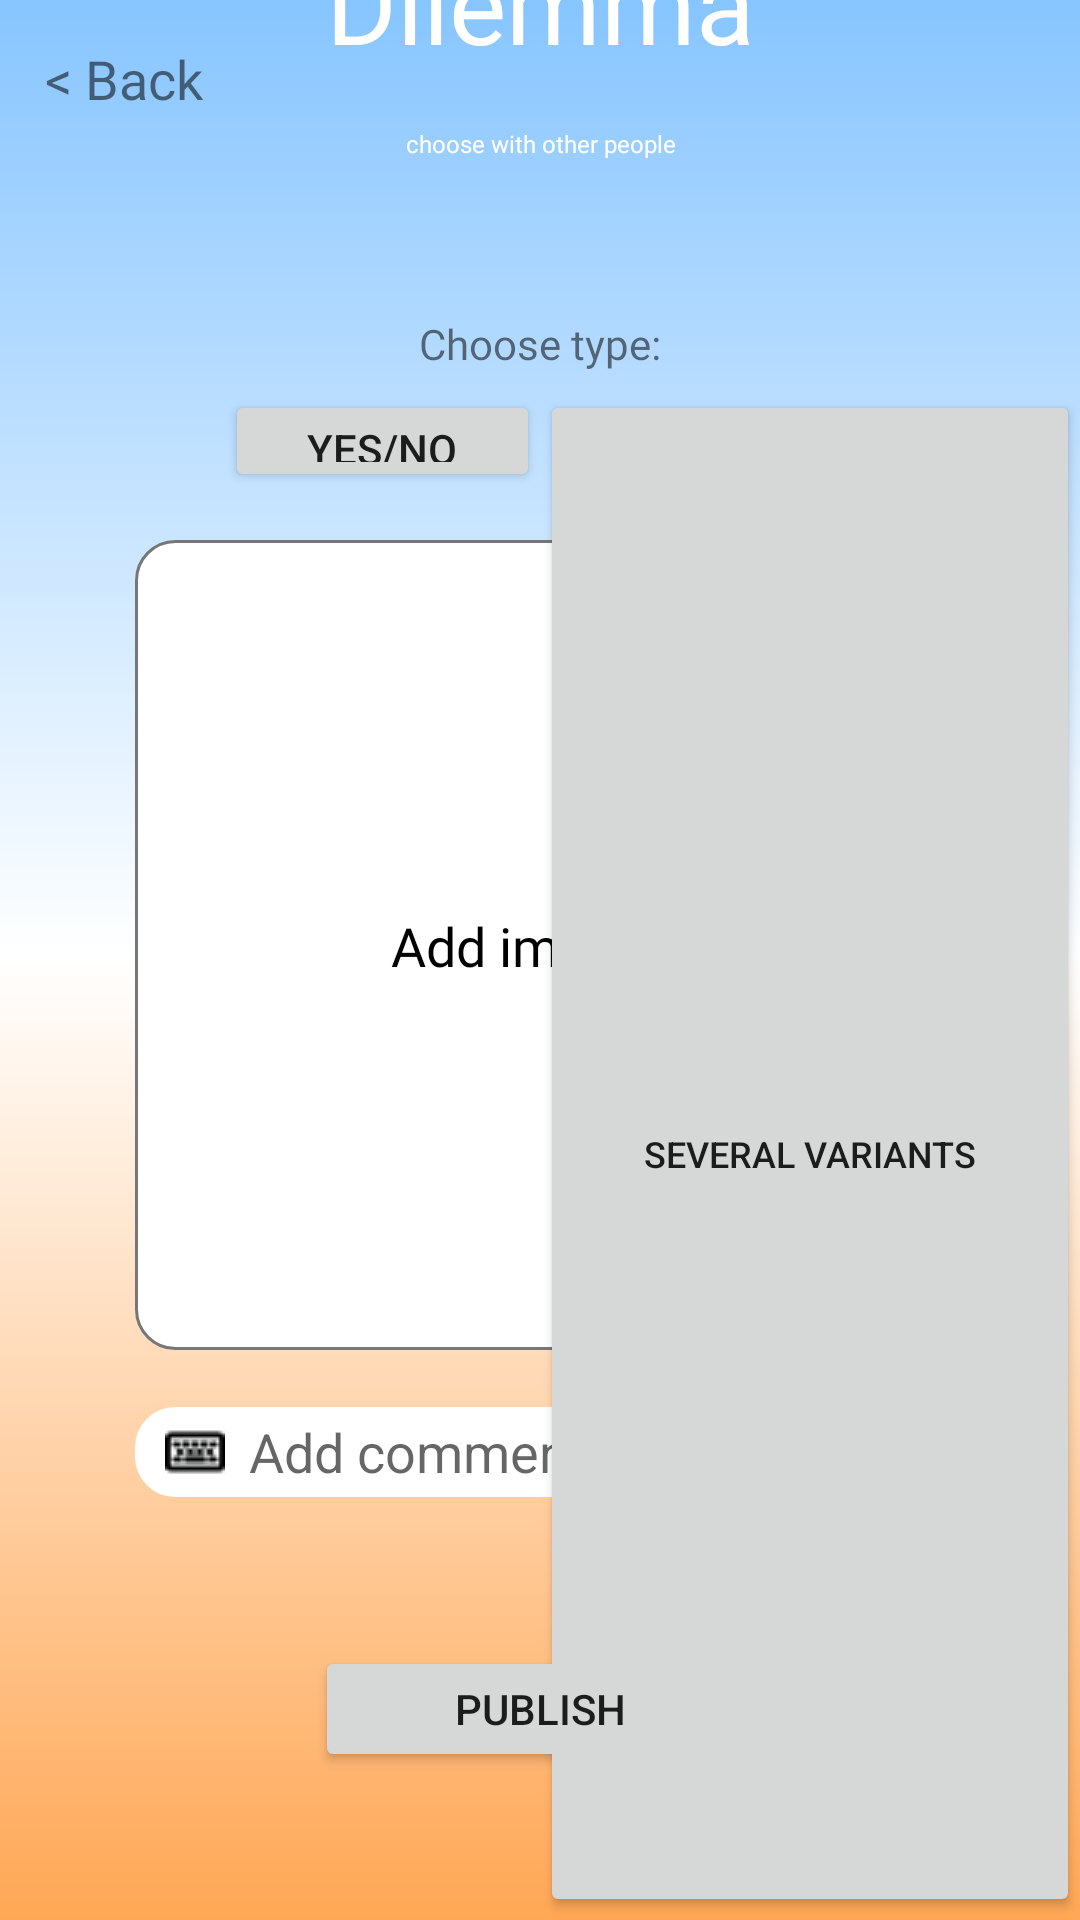

Screen size 1080 x 1920. Icon name, then its box in pixels as (x1, y1, x2, y2):
Open keyboard: (165, 1430, 225, 1474)
